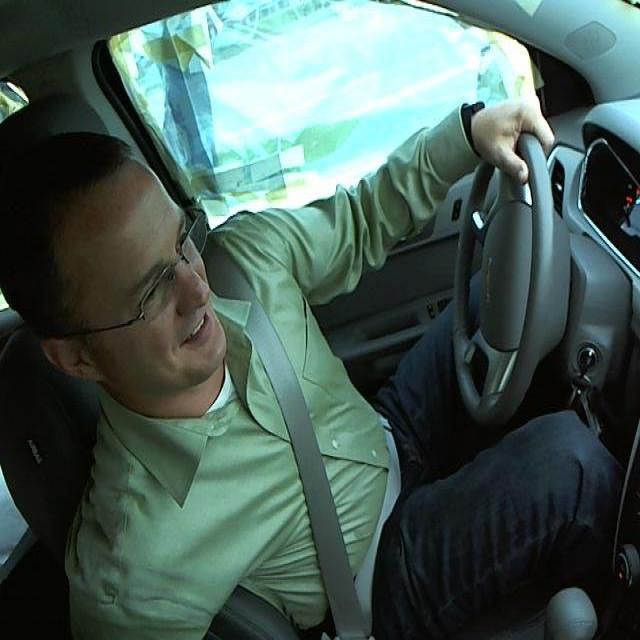seatbelt: (224, 288, 402, 615)
